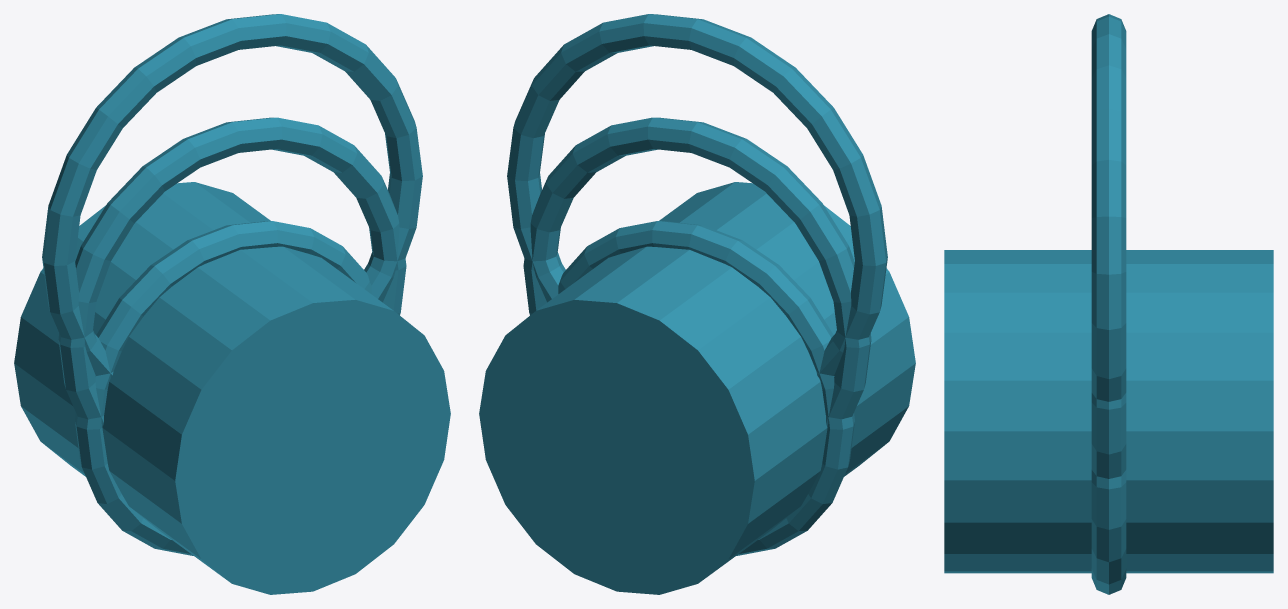
Rendered from sport_109.glb.
The picture shows the model from 3 angles, left to right: view 1: azimuth 30°, elevation 25°; view 2: azimuth 150°, elevation 25°; view 3: azimuth 270°, elevation 25°; orthographic projection. The views are drawn at different scales.
Parts seen in each view (by area): view 1: world; view 2: world; view 3: world.
Part boxes in pixels (left/top/right/bottom): world: left=14, top=14, right=450, bottom=594; world: left=479, top=14, right=915, bottom=594; world: left=944, top=14, right=1273, bottom=594.
Bounding box in the file's own units: 1.15 × 1.55 × 0.85.
